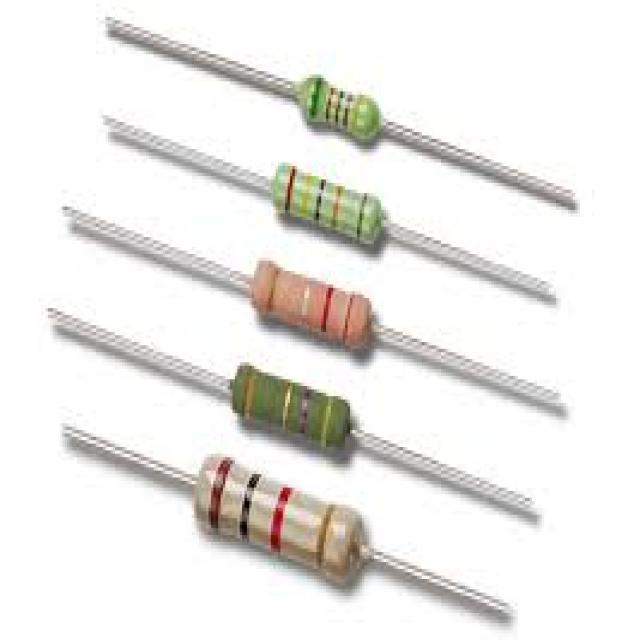Resistor: (192, 447, 368, 587), (251, 257, 374, 352), (230, 360, 354, 451), (271, 163, 384, 249), (299, 73, 382, 143)
